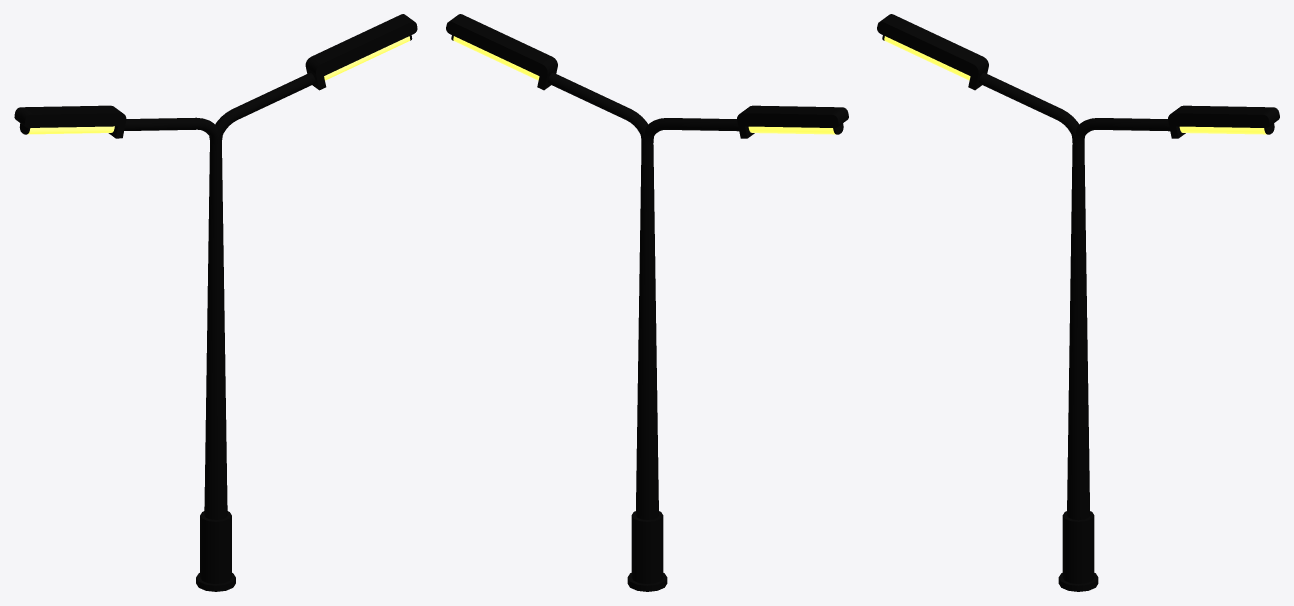
Rendered from lamp_3.glb.
The picture shows the model from 3 angles, left to right: view 1: azimuth 30°, elevation 25°; view 2: azimuth 150°, elevation 25°; view 3: azimuth 330°, elevation 25°; orthographic projection.
Parts seen in each view (by area): view 1: lamp_3; view 2: lamp_3; view 3: lamp_3.
Part boxes in pixels (x1,y1,x2,y2): lamp_3: (14,14,417,591); lamp_3: (446,14,848,591); lamp_3: (877,14,1279,591).
Bounding box in the file's own units: 2.76 × 3.49 × 0.2425.
